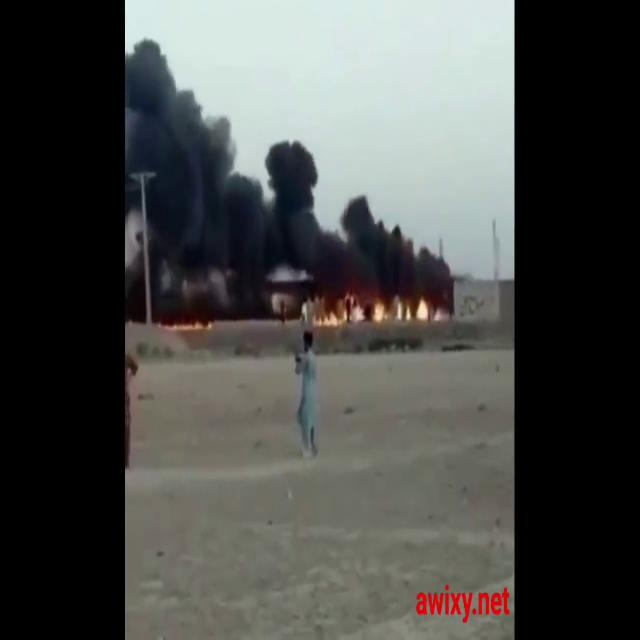Fire: (316, 294, 440, 330)
Smoke: (129, 45, 448, 292)
